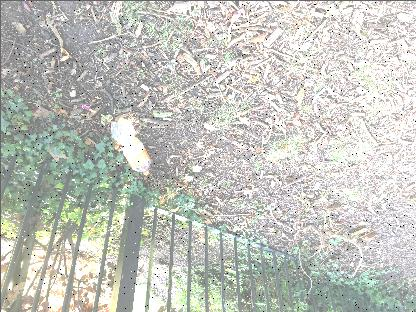Plastic Bottle: (109, 118, 149, 174)
